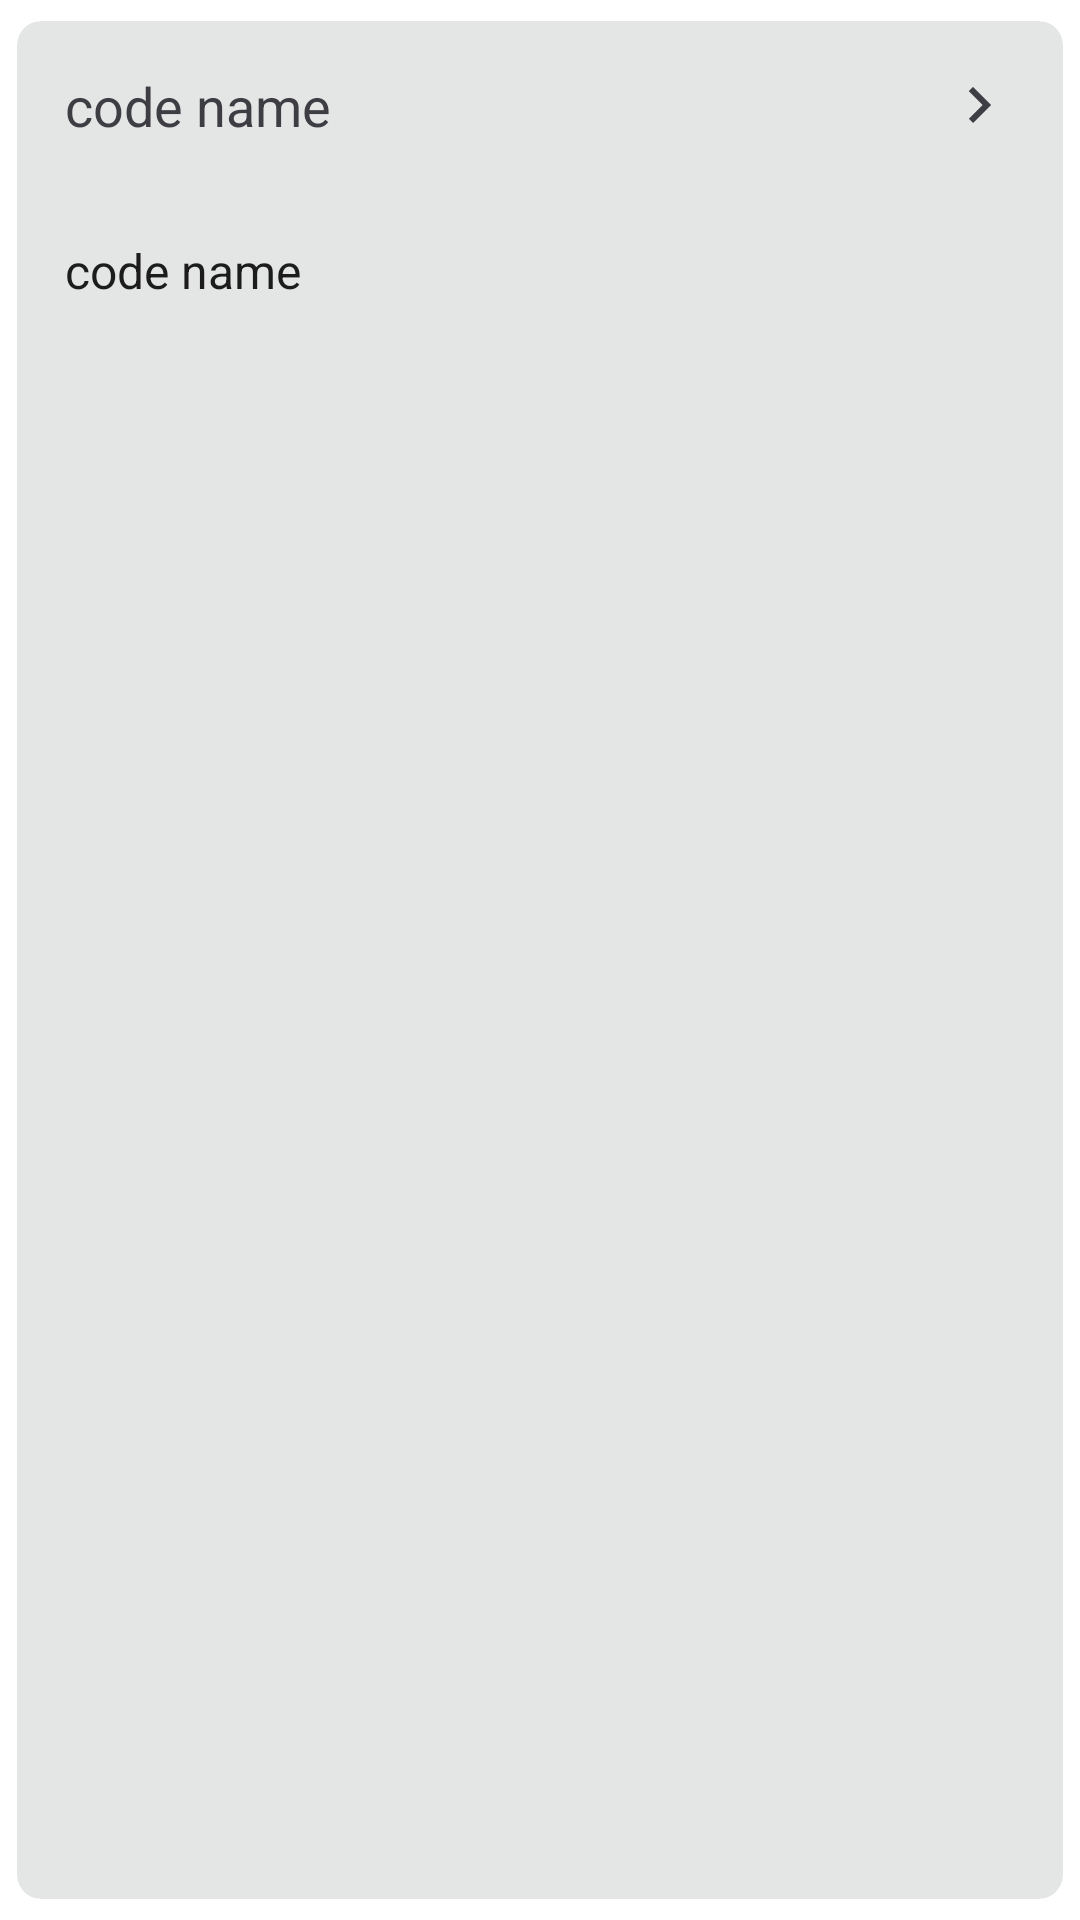

Icon bounding boxes for this 1080x1920 phone screenshot, format (x1, y1, x2, y2):
keyboard arrow right: (969, 87, 991, 123)
